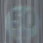Speed limit: (4, 2, 39, 42)
